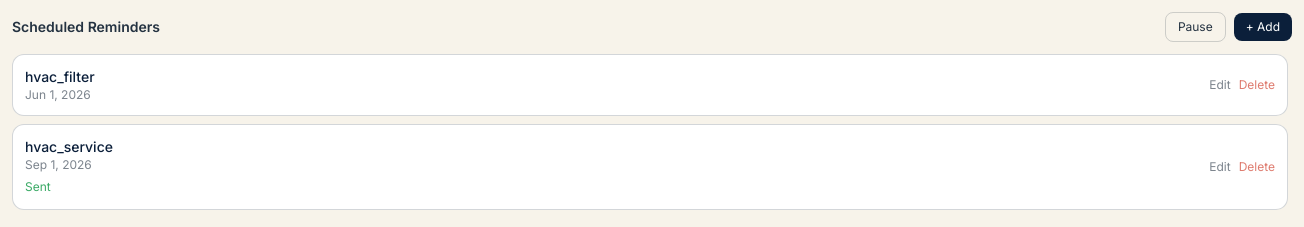
Test: RemindersPanel › clicking Pause PATCHes the route with paused:true, flips the label, and refreshes
The width and height of the screenshot is (1304, 227).
Click the button "Pause". click: {"x": 1195, "y": 27}
box: [1165,12,1226,42]
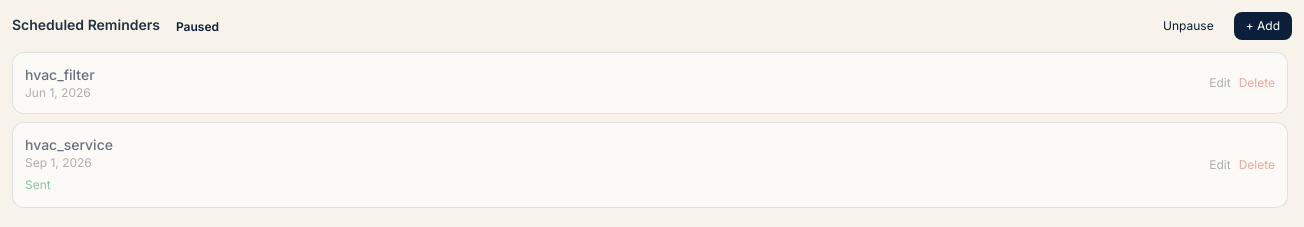
Expected: the button "Unpause" is shown, [1151,12,1226,40]
